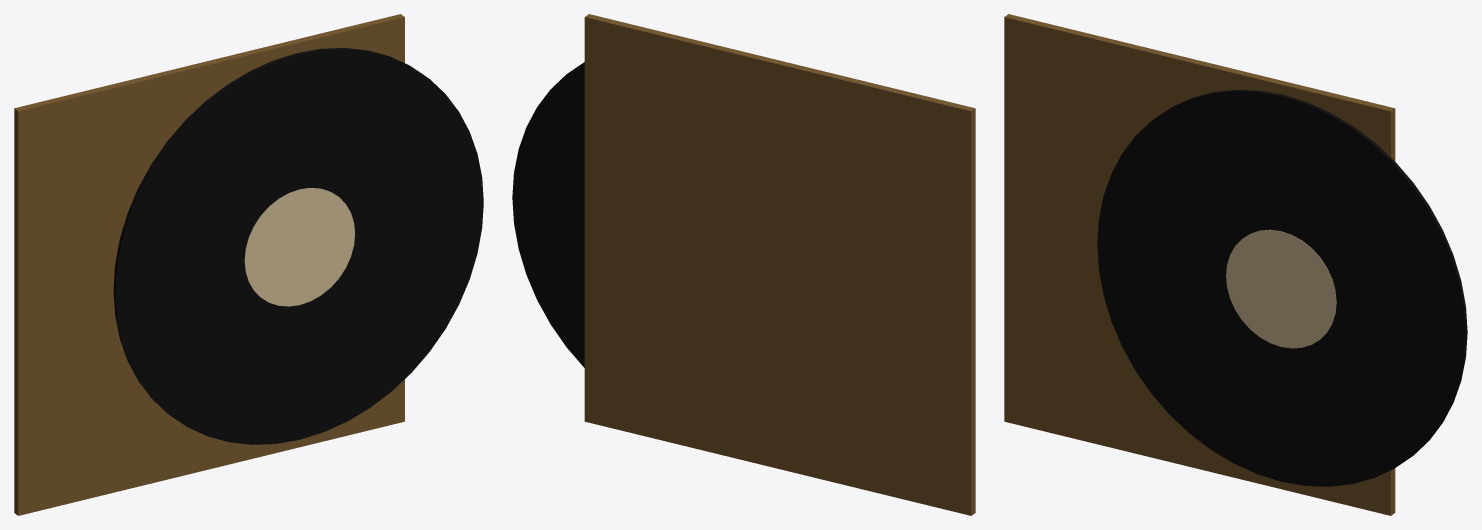
Rendered from record-3.glb.
3 views of the same model, side by side, from view 1: azimuth 30°, elevation 25°; view 2: azimuth 150°, elevation 25°; view 3: azimuth 330°, elevation 25° (orthographic).
Size of the model in its own units: 0.3775 by 0.315 by 0.0093.
